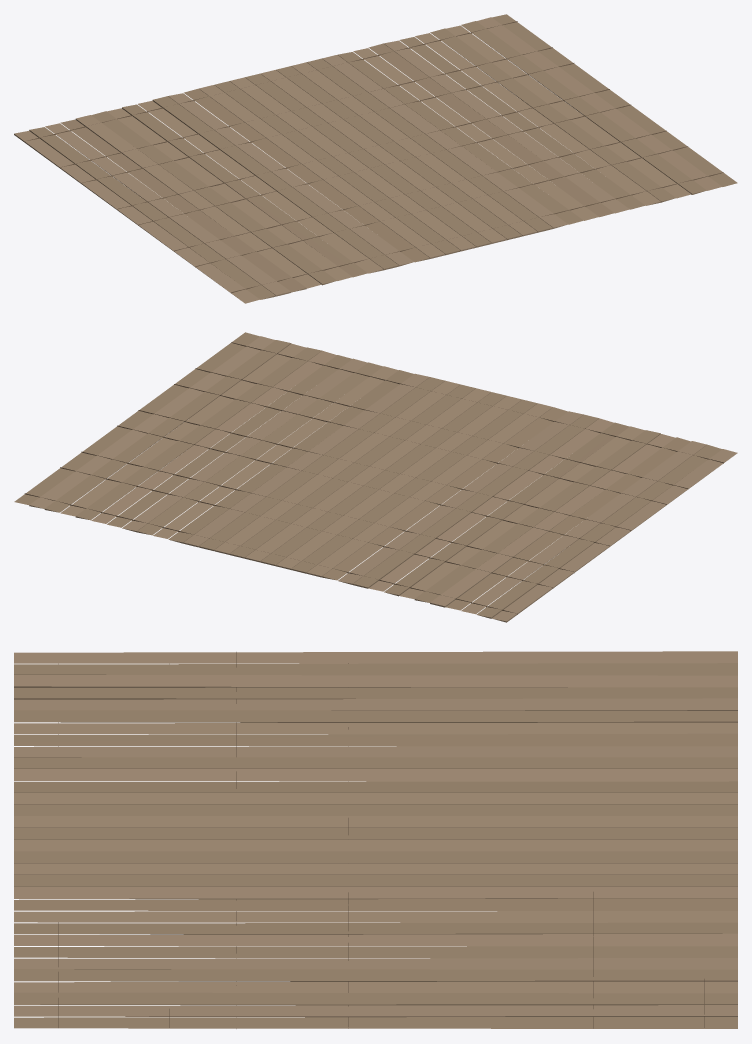
The model's file is home_floor_boards_s3__walnut_low.glb.
3 views of the same model, one above another, from view 1: azimuth 30°, elevation 25°; view 2: azimuth 150°, elevation 25°; view 3: azimuth 270°, elevation 25° (orthographic). The views are drawn at different scales.
Bounding box in the file's own units: 16 × 0.042 × 13.
